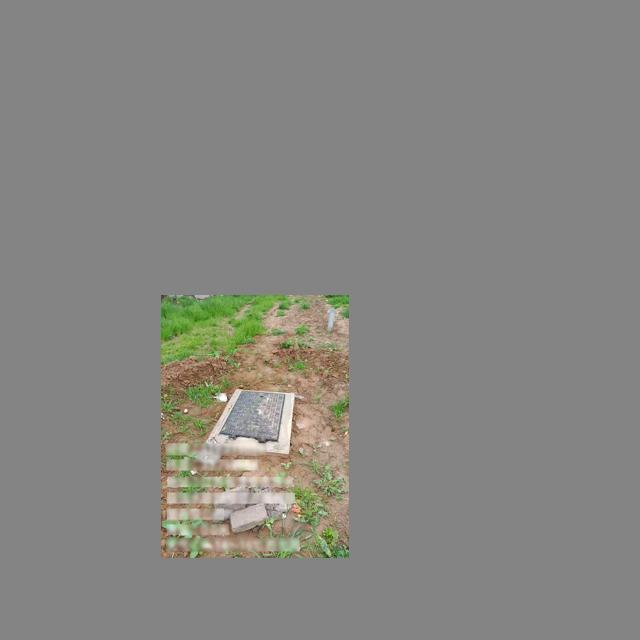good: (217, 388, 287, 446)
